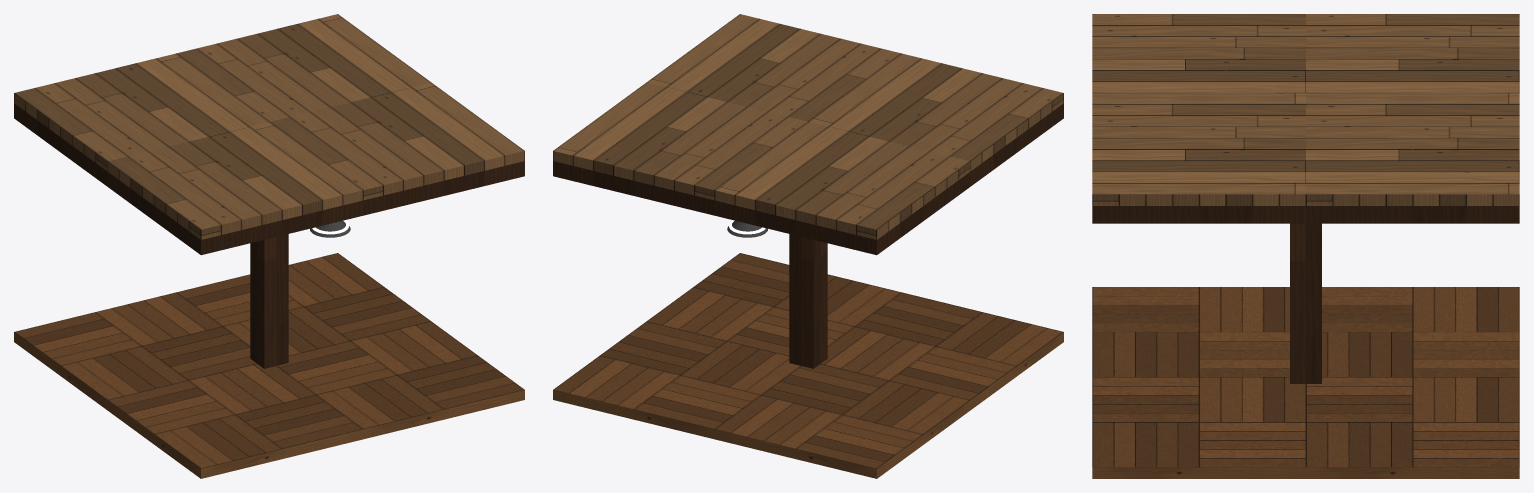
File: Room_Cabin_Column.glb
3 views of the same model, side by side, from view 1: azimuth 30°, elevation 25°; view 2: azimuth 150°, elevation 25°; view 3: azimuth 270°, elevation 25° (orthographic). The views are drawn at different scales.
Visible parts, largest first — view 1: Room_Cabin_Column_Ceiling, Room_Cabin_Column; view 2: Room_Cabin_Column_Ceiling, Room_Cabin_Column; view 3: Room_Cabin_Column_Ceiling, Room_Cabin_Column.
Boxes of the visible parts, <box> form: Room_Cabin_Column_Ceiling: <box>14,14,524,255</box>; Room_Cabin_Column: <box>14,234,524,478</box>; Room_Cabin_Column_Ceiling: <box>553,14,1063,255</box>; Room_Cabin_Column: <box>553,234,1063,478</box>; Room_Cabin_Column_Ceiling: <box>1092,14,1519,223</box>; Room_Cabin_Column: <box>1092,223,1519,478</box>.
Bounding box in the file's own units: 4 × 2.94 × 4.
Materials: 7 (5 with a texture image).
